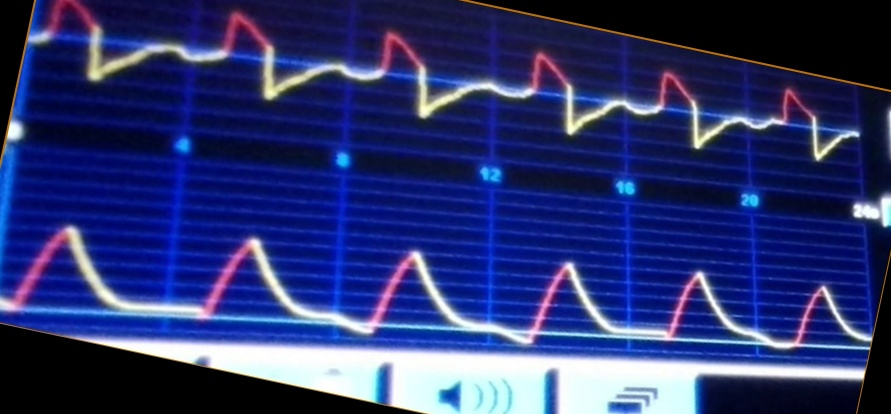Ineffective_effort Flow: (35, 2, 860, 162)
Ineffective_effort Volume: (3, 222, 868, 354)
